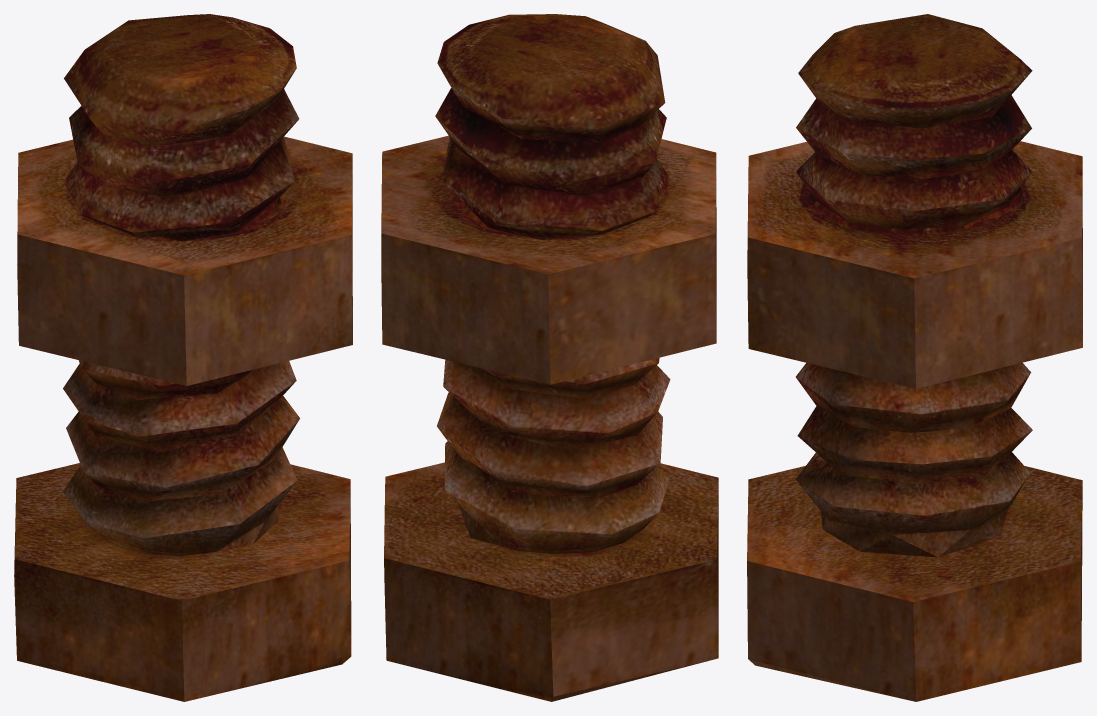
File: bolts_nuts_02.glb
3 renders of one model, left to right at view 1: azimuth 30°, elevation 25°; view 2: azimuth 150°, elevation 25°; view 3: azimuth 270°, elevation 25°, orthographic.
Parts seen in each view (by area): view 1: bolts_nuts_02; view 2: bolts_nuts_02; view 3: bolts_nuts_02.
Boxes of the visible parts, bbox=[...] form: bolts_nuts_02: bbox=[14, 14, 352, 701]; bolts_nuts_02: bbox=[381, 14, 718, 701]; bolts_nuts_02: bbox=[747, 14, 1082, 701].
Size of what is drawn, in the model's own units: 0.0447 by 0.0734 by 0.0387.
Materials: 1 (1 with a texture image).
